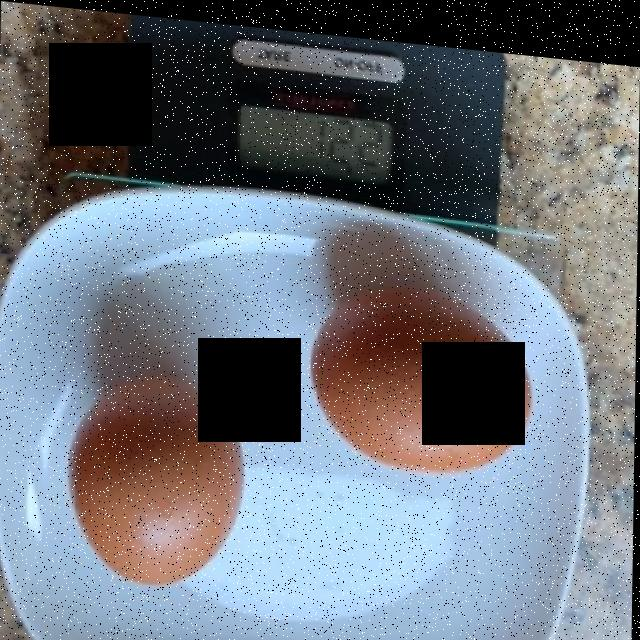egg: (80, 293, 534, 580)
